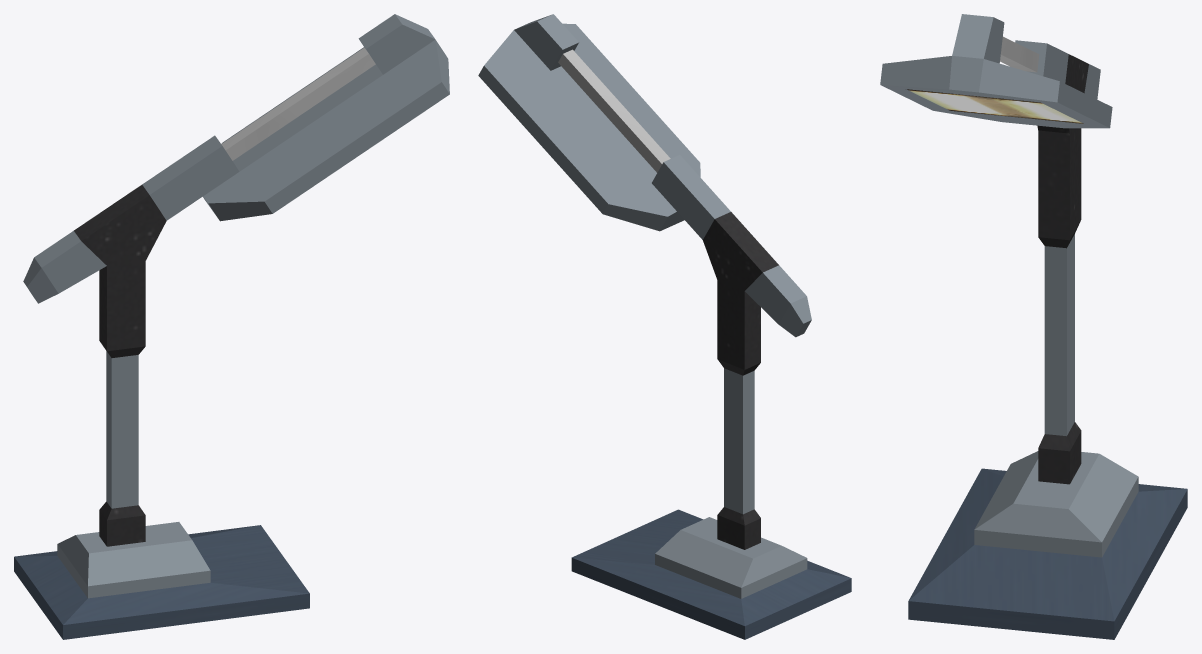
Rendered from LampTable.fbx.
3 views of the same model, side by side, from view 1: azimuth 30°, elevation 25°; view 2: azimuth 150°, elevation 25°; view 3: azimuth 270°, elevation 25° (orthographic). The views are drawn at different scales.
Visible parts, largest first — view 1: LampTable; view 2: LampTable; view 3: LampTable.
Part boxes in pixels (x1,y1,x2,y2): LampTable: [14, 14, 449, 639]; LampTable: [478, 14, 851, 639]; LampTable: [880, 14, 1187, 639].
Size of the model in its own units: 52.27 by 71.59 by 29.57.
